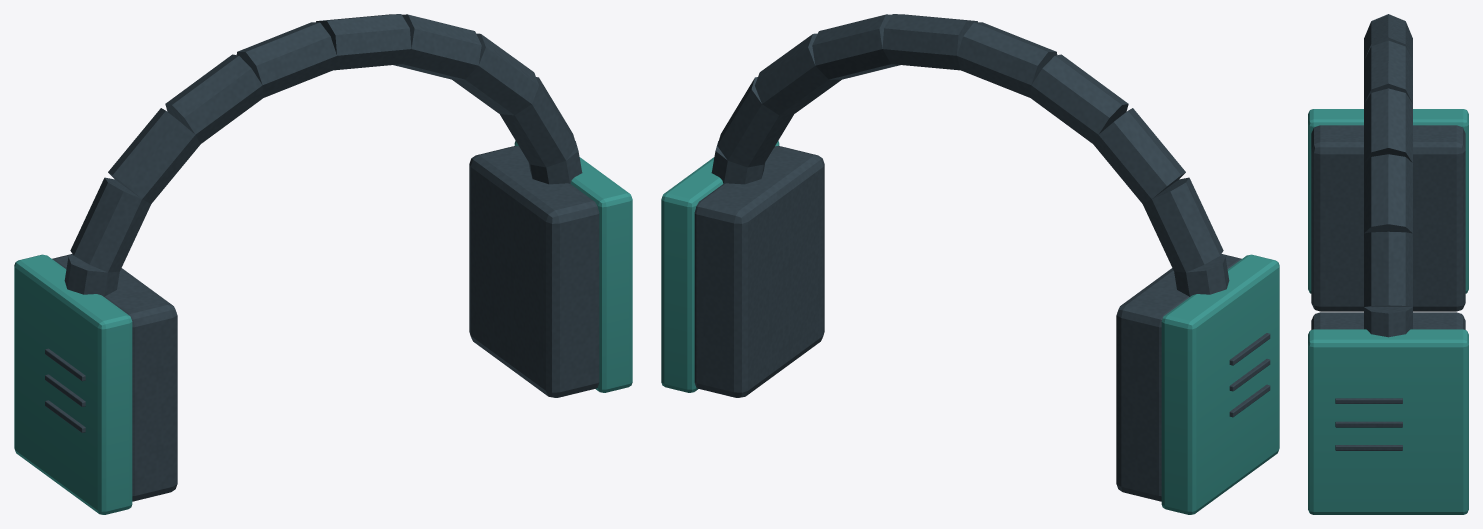
File: hat_headphones.glb
The picture shows the model from 3 angles, left to right: view 1: azimuth 30°, elevation 25°; view 2: azimuth 150°, elevation 25°; view 3: azimuth 270°, elevation 25°; orthographic projection. The views are drawn at different scales.
Visible parts, largest first — view 1: ear_cushion.001, ear_shell, ear_cushion, ear_shell.001, headband.006, headband.007, headband.008, headband.005, headband.004, headband.003, headband.002, headband.001 (+2 smaller); view 2: ear_cushion.001, ear_shell, ear_cushion, ear_shell.001, headband.006, headband.007, headband.008, headband.005, headband.004, headband.003, headband.002, headband.001 (+2 smaller); view 3: ear_shell.001, ear_cushion, headband.002, headband.001, ear_shell, headband.003, headband.004, ear_cushion.001, headband, headband.005, earcup_groove.004, earcup_groove.003 (+1 smaller).
Boxes of the visible parts, x1,y1,x2,y2 form: ear_cushion.001: (469,146,599,397); ear_shell: (14,254,132,514); ear_cushion: (52,254,177,501); ear_shell.001: (514,141,632,392); headband.006: (165,54,263,143); headband.007: (108,108,200,203); headband.008: (70,177,151,272); headband.005: (236,22,336,97); headband.004: (316,14,411,70); headband.003: (393,14,481,79); headband.002: (452,33,538,115); headband.001: (500,77,576,167); ear_cushion.001: (694,146,824,397); ear_shell: (1161,254,1279,514); ear_cushion: (1116,254,1241,501); ear_shell.001: (661,141,779,392); headband.006: (1030,54,1128,143); headband.007: (1093,108,1185,203); headband.008: (1142,177,1223,272); headband.005: (957,22,1057,97); headband.004: (882,14,977,70); headband.003: (812,14,900,79); headband.002: (755,33,841,115); headband.001: (717,77,793,167); ear_shell.001: (1308,329,1468,514); ear_cushion: (1311,125,1465,311); headband.002: (1364,154,1412,233); headband.001: (1364,231,1412,306); ear_shell: (1308,109,1468,293); headband.003: (1364,88,1412,162); headband.004: (1364,40,1412,103); ear_cushion.001: (1311,312,1465,329); headband: (1364,307,1412,337); headband.005: (1364,15,1412,60); earcup_groove.004: (1335,421,1402,427); earcup_groove.003: (1335,445,1402,450).
Bounding box in the file's own units: 0.877 × 0.6176 × 0.25.
Materials: 2 (1 with a texture image).
